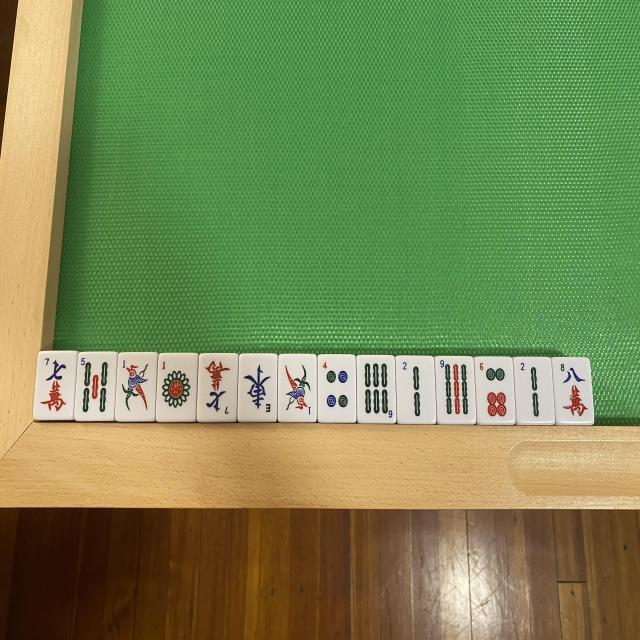hwe: (239, 356, 277, 422)
sb1: (116, 354, 156, 420), (279, 356, 316, 422)
sb2: (398, 356, 436, 422), (519, 357, 555, 423)
sb5: (76, 355, 115, 422)
sb6: (357, 356, 395, 424)
sb9: (436, 357, 472, 422)
sc7: (36, 350, 78, 418), (198, 353, 237, 420)
sc8: (554, 359, 592, 423)
sd1: (159, 356, 197, 422)
sd4: (320, 357, 357, 422)
sd6: (475, 357, 512, 424)
